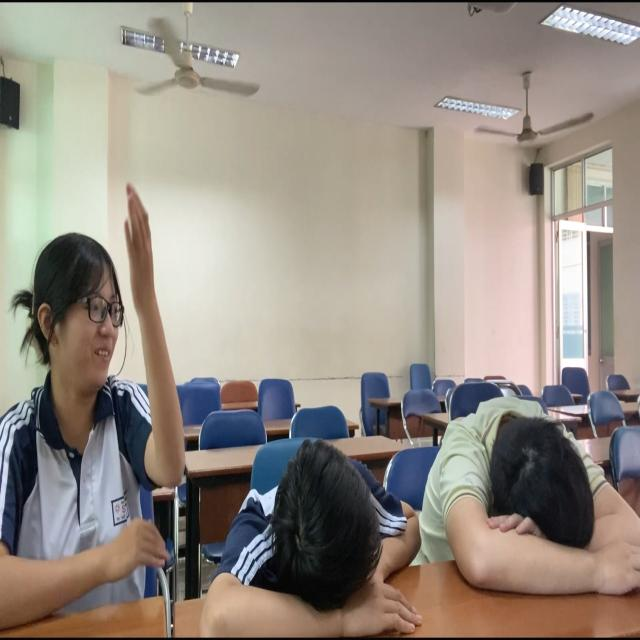raise_hand: (1, 179, 174, 640)
sleep: (395, 399, 640, 640), (194, 434, 430, 640)
